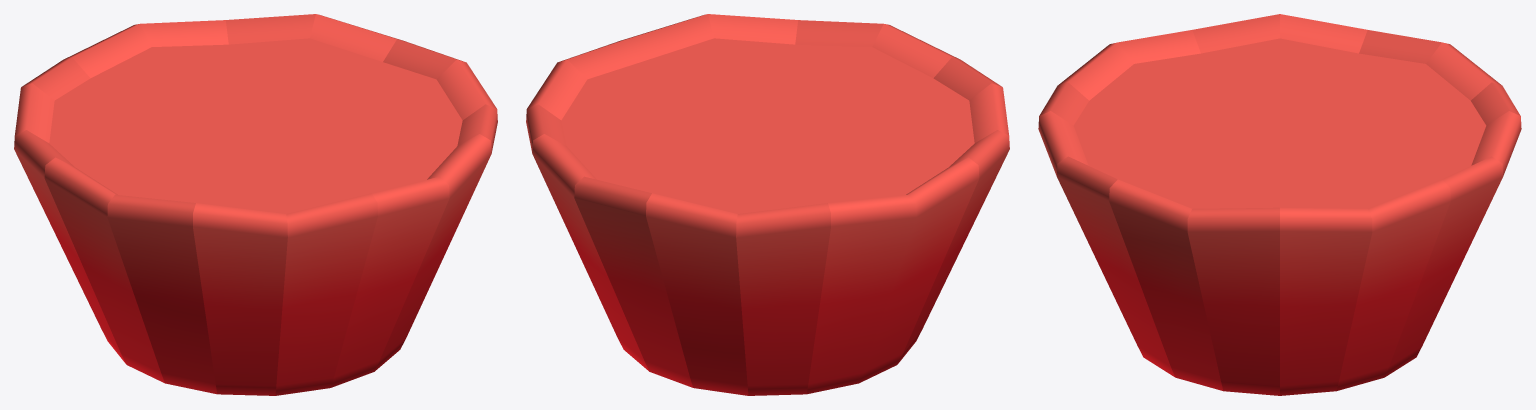
File: Cupcake_base.fbx
3 renders of one model, left to right at view 1: azimuth 30°, elevation 25°; view 2: azimuth 150°, elevation 25°; view 3: azimuth 270°, elevation 25°, orthographic.
Parts seen in each view (by area): view 1: Cupcake_base; view 2: Cupcake_base; view 3: Cupcake_base.
Part boxes in pixels (<box>): Cupcake_base: <box>14,14,497,395</box>; Cupcake_base: <box>526,14,1009,395</box>; Cupcake_base: <box>1038,14,1521,395</box>.
Bounding box in the file's own units: 80.51 × 80.51 × 41.94.
